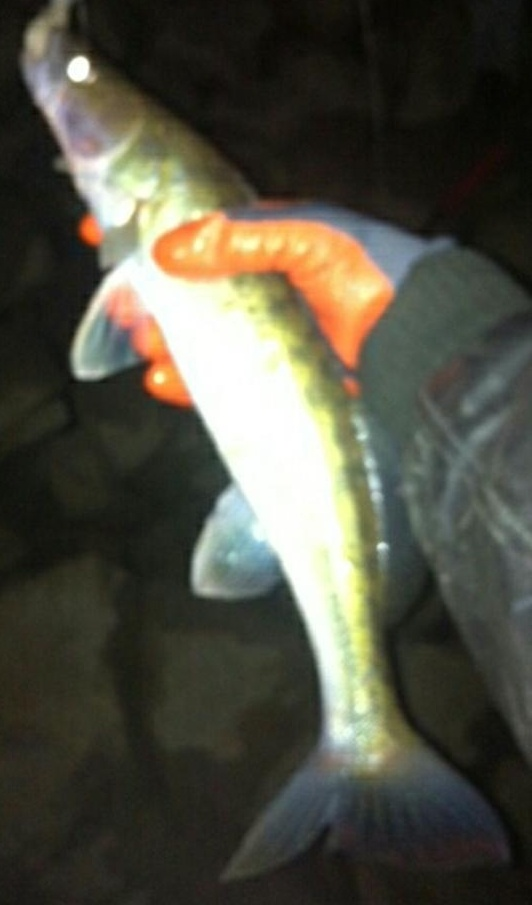Sander lucioperca: (20, 20, 512, 885)
